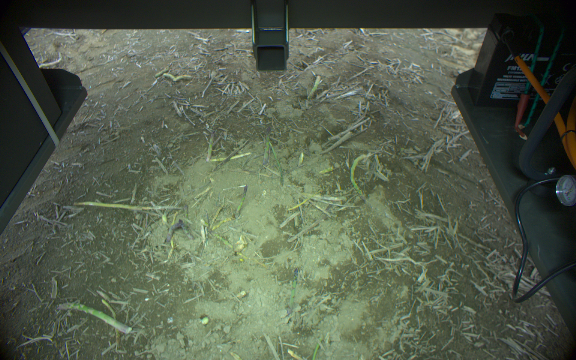aspa: (55, 298, 133, 334), (72, 198, 183, 213), (350, 155, 371, 196), (288, 267, 299, 318), (306, 74, 325, 100), (165, 221, 187, 243), (235, 184, 250, 216), (261, 127, 273, 164), (204, 127, 217, 161), (177, 217, 191, 240)
